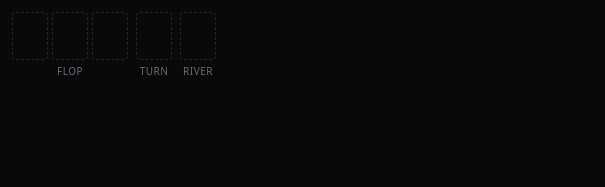
Test case: the slots are the way in › opens the deck when you click an empty one
This screenshot has width=605, height=187.
# Three slots carry this title — the flop is three cards.
Click the 1st button titled "pick the flop" at (30, 36), box [12,12,48,60]
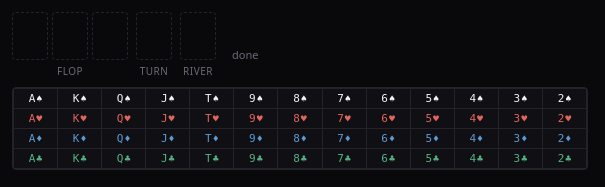
Expected: the button titled "As" is shown, [14,89,57,108]
